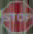Stop: (0, 5, 32, 28)
